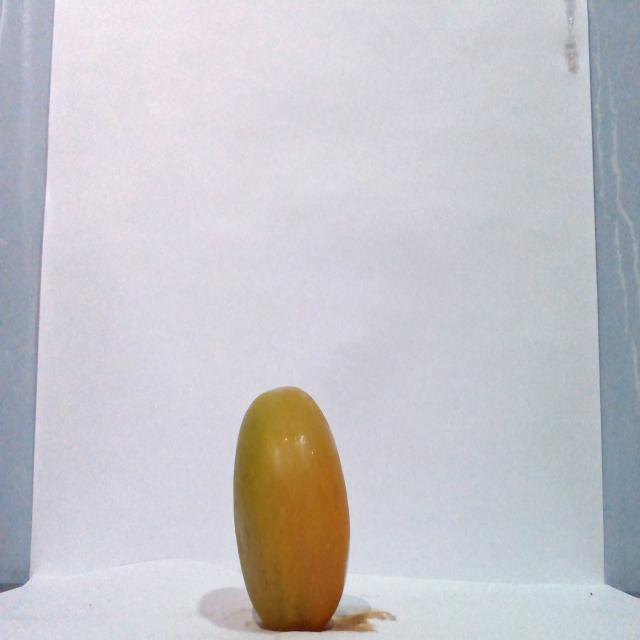Red: (231, 384, 351, 631)
